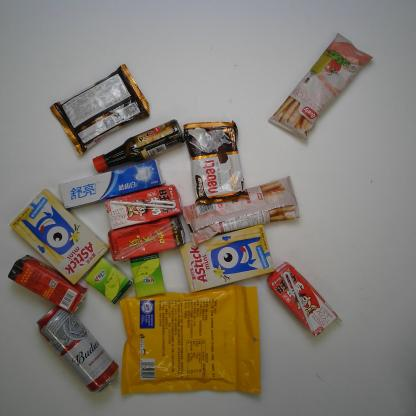Alcohol: (34, 304, 117, 392)
Dessert: (266, 29, 375, 145), (11, 187, 114, 288), (49, 61, 152, 159), (182, 175, 302, 246), (175, 226, 276, 292), (182, 117, 251, 207)
Dried Fruit: (111, 284, 264, 397)
Drink: (4, 251, 89, 315), (105, 216, 189, 264)
Milk: (267, 259, 342, 340), (101, 183, 184, 234)
Personal Hygiene: (60, 162, 164, 209)
Seasoner: (90, 116, 188, 178)
Tissue: (85, 255, 132, 303), (127, 250, 166, 300)
